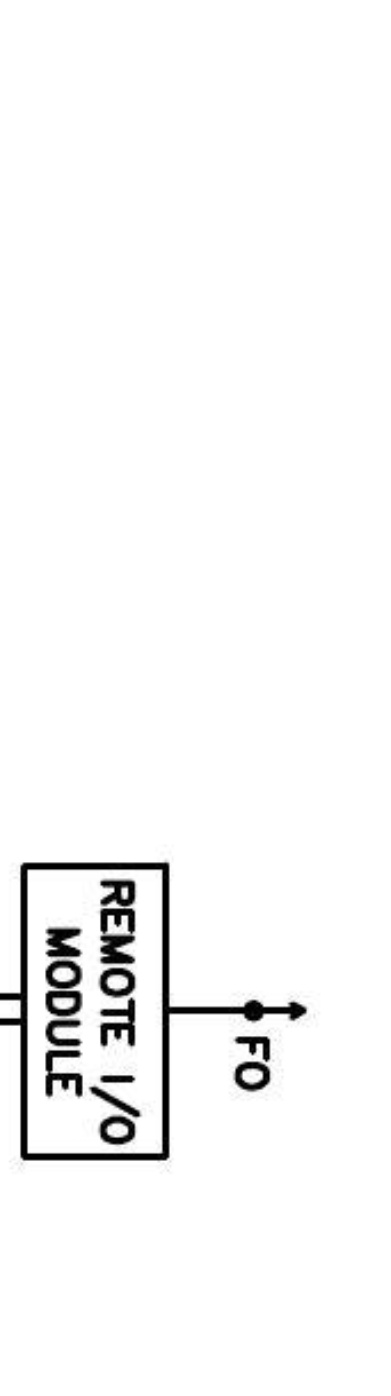remote_io_module: (20, 861, 170, 1161)
